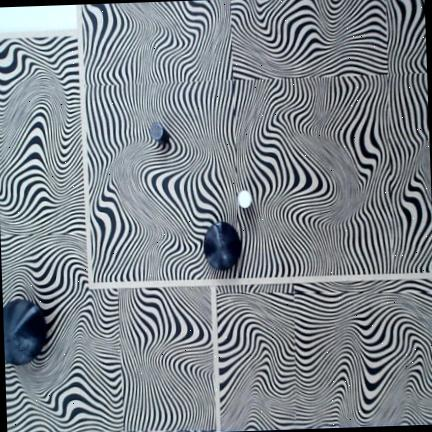Cilindro: (150, 121, 169, 144), (238, 191, 252, 208)
Esfera: (3, 298, 46, 364), (203, 221, 241, 270)
